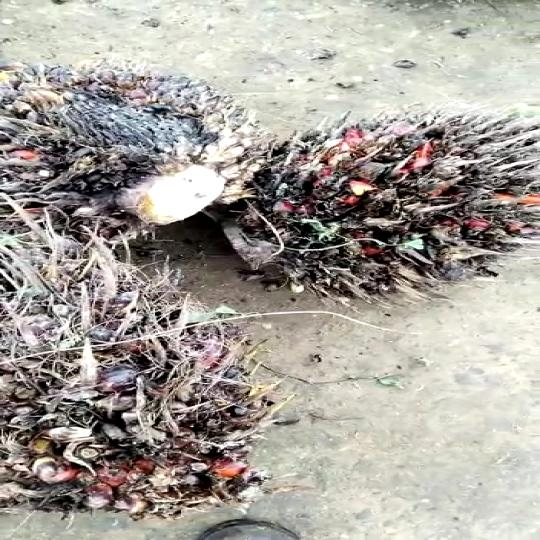terlalu masak: (0, 223, 281, 518), (211, 111, 540, 299), (0, 61, 245, 247)
